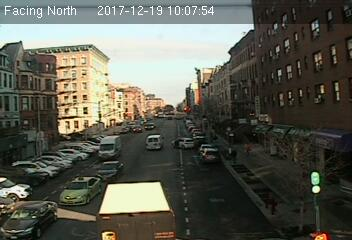car: (3, 201, 57, 240), (56, 174, 101, 206), (96, 160, 124, 180), (202, 148, 221, 163), (173, 137, 194, 149)
truck: (98, 135, 122, 160), (145, 134, 162, 150)
ups: (96, 182, 177, 240)
